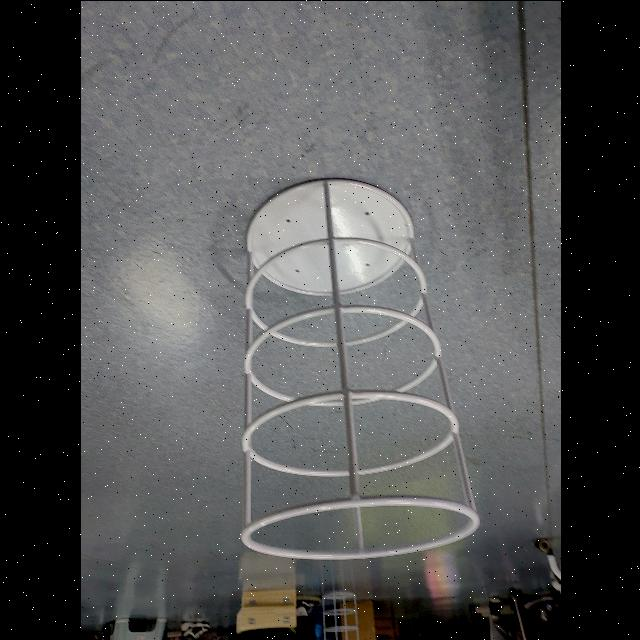S: (229, 173, 483, 565)
